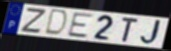2: (92, 14, 116, 42)
D: (43, 9, 70, 38)
E: (66, 12, 96, 40)
J: (139, 19, 165, 46)
T: (121, 17, 140, 44)
Z: (19, 7, 49, 34)
